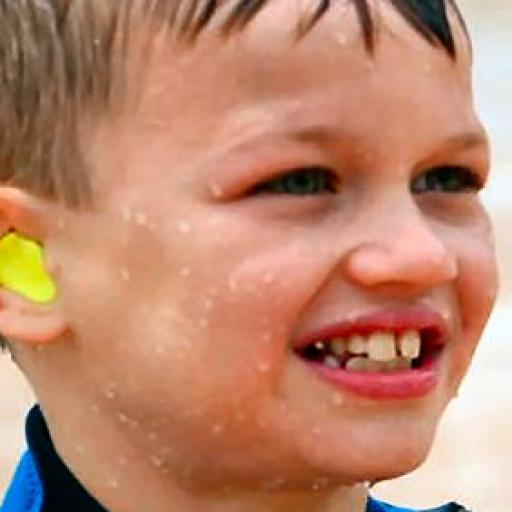Autism: (2, 6, 507, 494)
